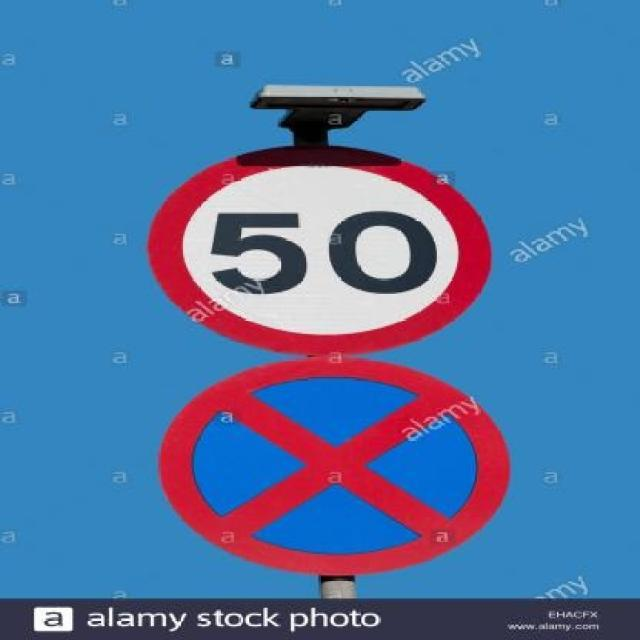forb_speed_over_50: (164, 149, 478, 346)
